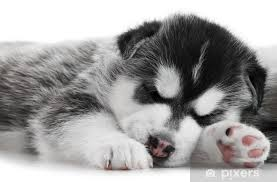Bulldog: (14, 13, 272, 169)
